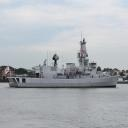Fragata: (8, 32, 122, 89)
